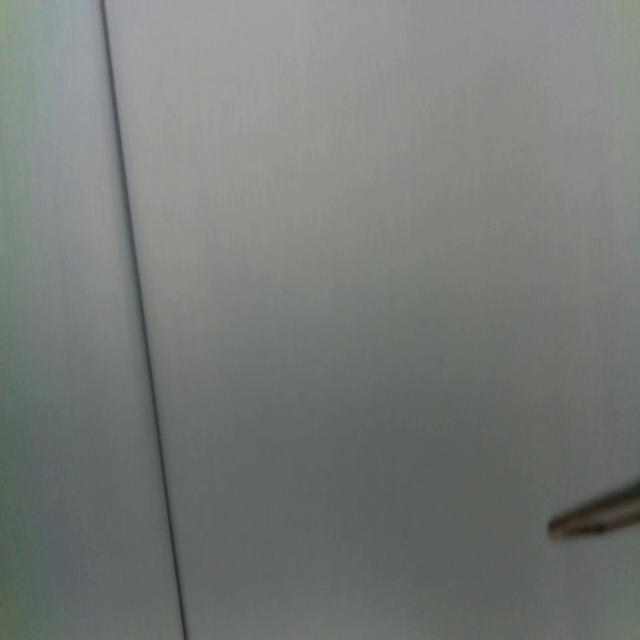crease: (101, 0, 187, 640)
